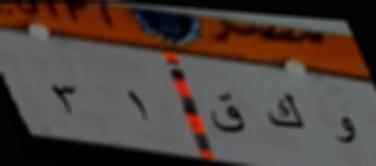1: (126, 84, 150, 124)
3: (50, 80, 81, 118)
kaaf: (264, 86, 306, 139)
qaaf: (207, 88, 248, 138)
waw: (330, 116, 358, 152)
